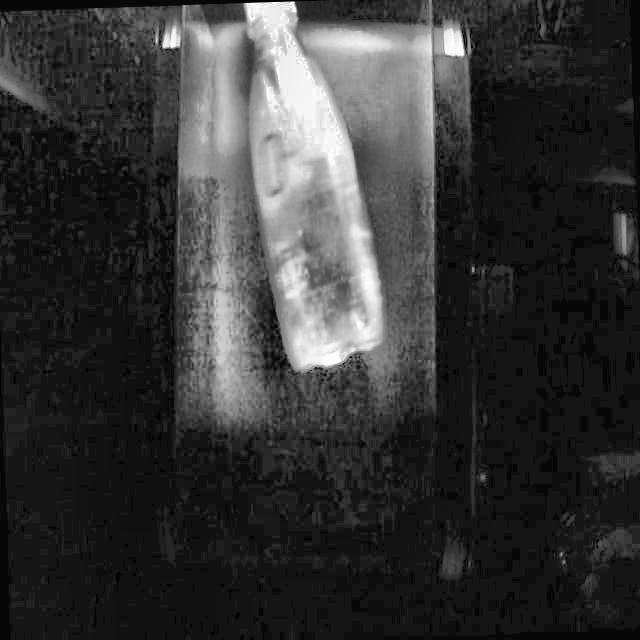plastic bottle: (245, 3, 385, 370)
